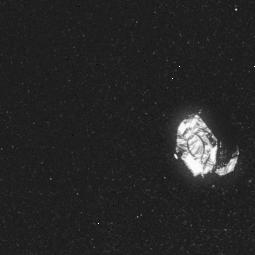lisa_pathfinder: (158, 92, 246, 185)
